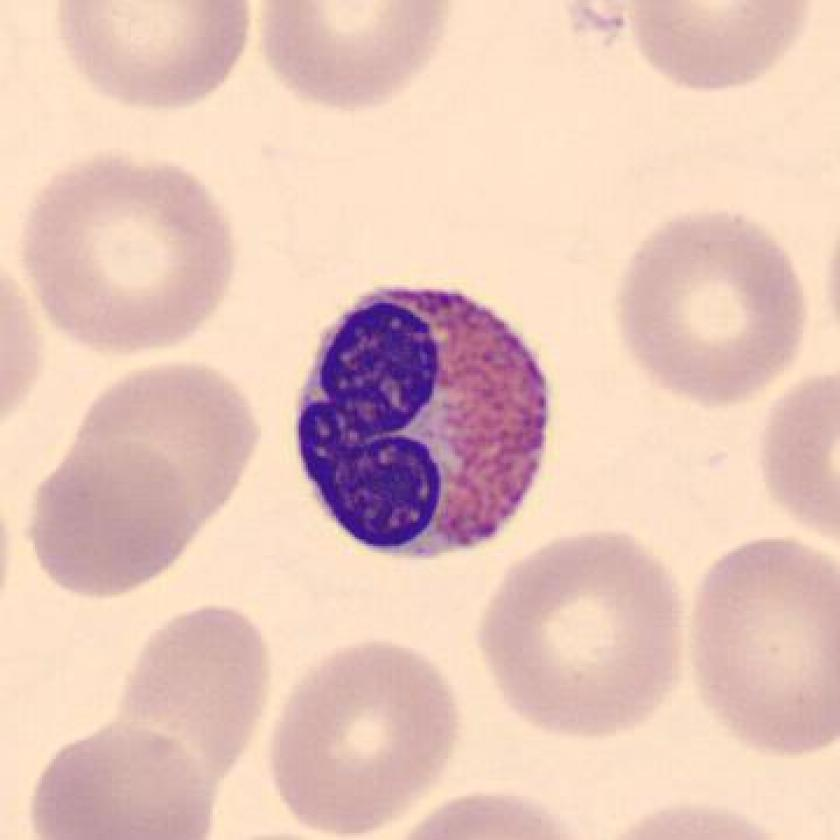eosinophil: (283, 263, 566, 573)
